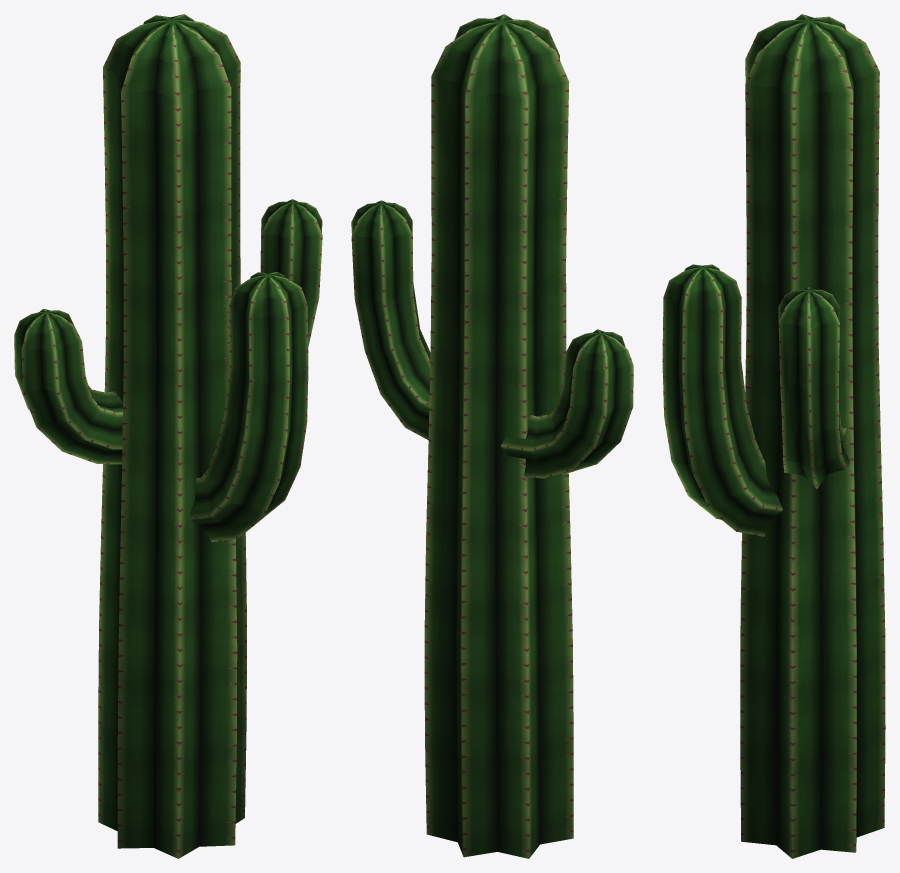
Rendered from mm7_deco_bush13.glb.
The picture shows the model from 3 angles, left to right: view 1: azimuth 30°, elevation 25°; view 2: azimuth 150°, elevation 25°; view 3: azimuth 270°, elevation 25°; orthographic projection.
Visible parts, largest first — view 1: Cactus; view 2: Cactus; view 3: Cactus.
Part boxes in pixels (x1,y1,x2,y2): Cactus: (14,14,322,858); Cactus: (351,14,633,858); Cactus: (662,14,885,858).
Size of the model in its own units: 1.27 by 3.35 by 0.8396.
Materials: 1 (1 with a texture image).
